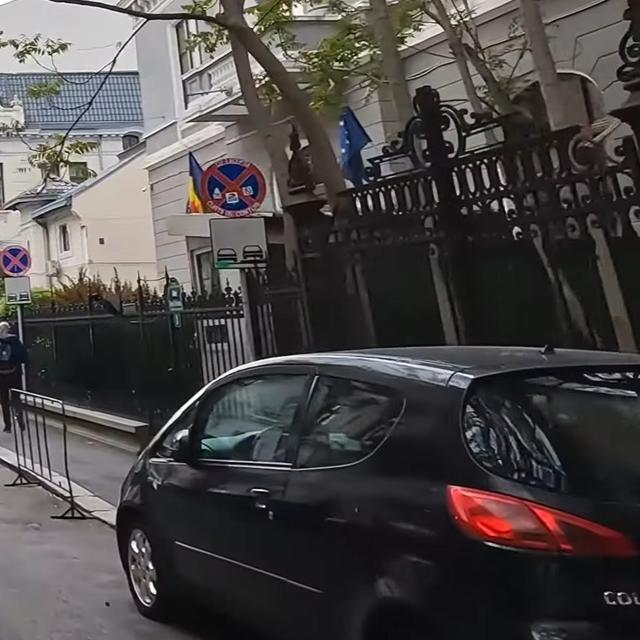forb_waiting: (197, 157, 269, 219), (0, 244, 31, 275)
